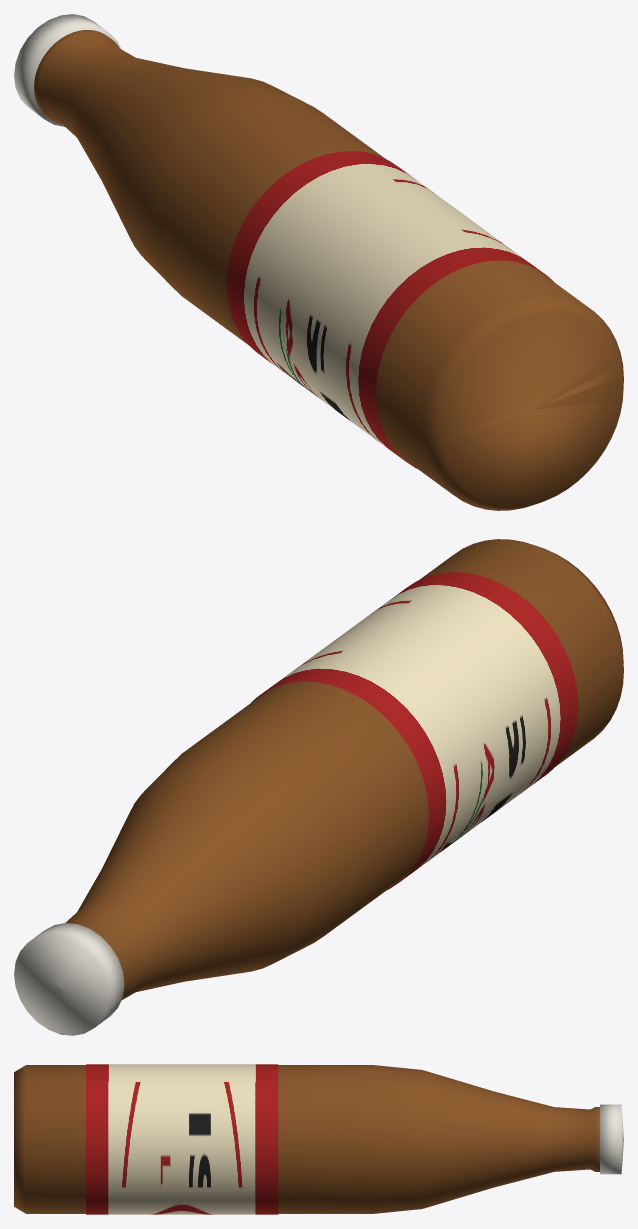
Rendered from Weapon_Bottle.fbx.
The picture shows the model from 3 angles, top to bottom: view 1: azimuth 30°, elevation 25°; view 2: azimuth 150°, elevation 25°; view 3: azimuth 270°, elevation 25°; orthographic projection. The views are drawn at different scales.
Visible parts, largest first — view 1: Weapon_Bottle, Weapon_Bottle_Game; view 2: Weapon_Bottle, Weapon_Bottle_Game; view 3: Weapon_Bottle, Weapon_Bottle_Game.
Part boxes in pixels (<box>): Weapon_Bottle: <box>34,30,623,510</box>; Weapon_Bottle_Game: <box>14,14,553,468</box>; Weapon_Bottle: <box>65,539,623,1000</box>; Weapon_Bottle_Game: <box>14,572,578,1035</box>; Weapon_Bottle: <box>14,1065,599,1213</box>; Weapon_Bottle_Game: <box>86,1064,623,1214</box>.
Bounding box in the file's own units: 0.0626 × 0.0626 × 0.254.
